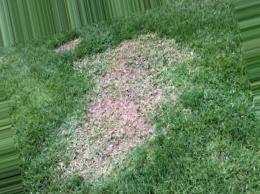patch: (90, 49, 146, 88), (79, 104, 120, 139), (122, 96, 153, 134), (89, 150, 131, 174), (59, 143, 87, 176), (124, 34, 175, 47), (154, 66, 175, 92), (57, 43, 81, 50)
